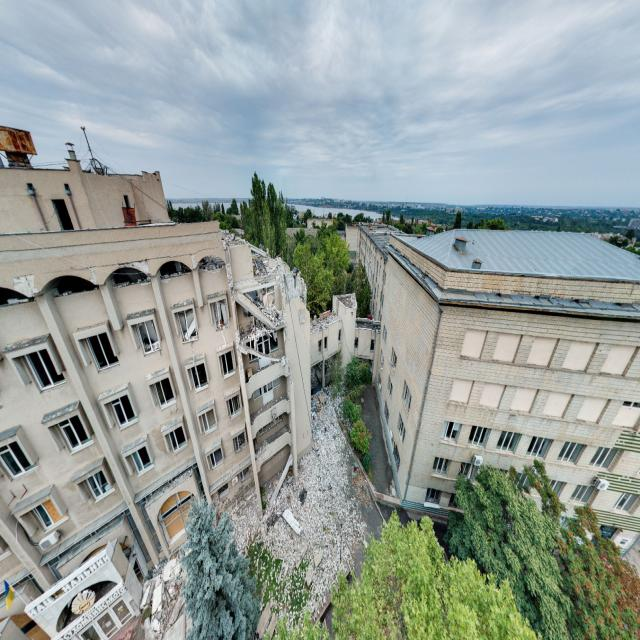broken_window: (158, 490, 196, 547), (24, 345, 65, 392), (57, 412, 93, 453), (84, 330, 119, 372), (0, 436, 33, 479), (134, 317, 160, 355), (174, 306, 198, 343), (150, 375, 176, 409), (218, 347, 236, 378)
building: (0, 130, 314, 639), (356, 223, 640, 581)
